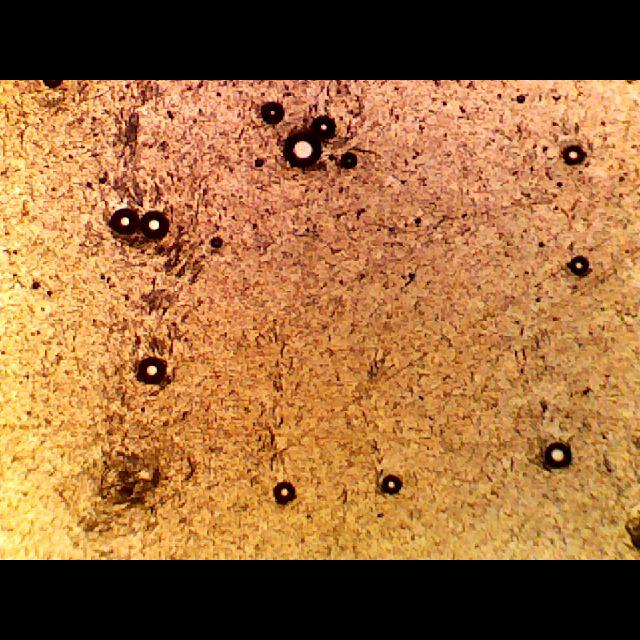microbeads: (280, 132, 322, 170), (109, 204, 143, 240), (134, 358, 170, 387)
